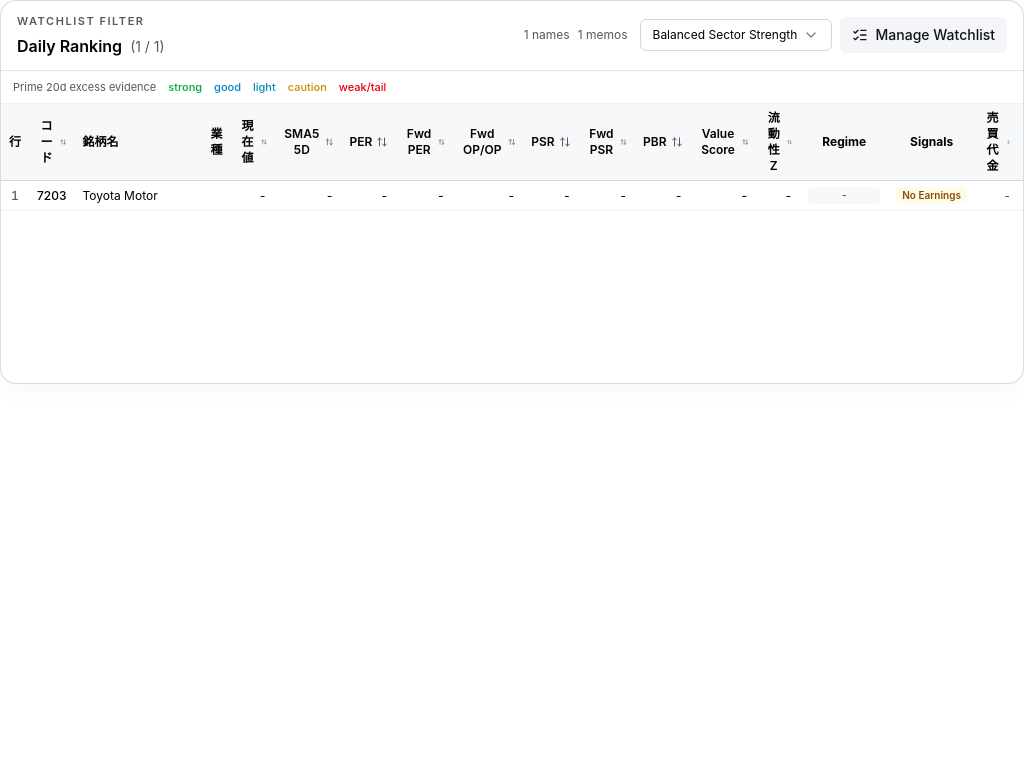
Test case: WatchlistDetail › opens a single management dialog for stock, detail, and danger actions
Expected: the button "Add Stock" is not shown
Expected: the button "Delete" is not shown
Click the button "Manage Watchlist" at x=923, y=35, box [840,17,1007,53]
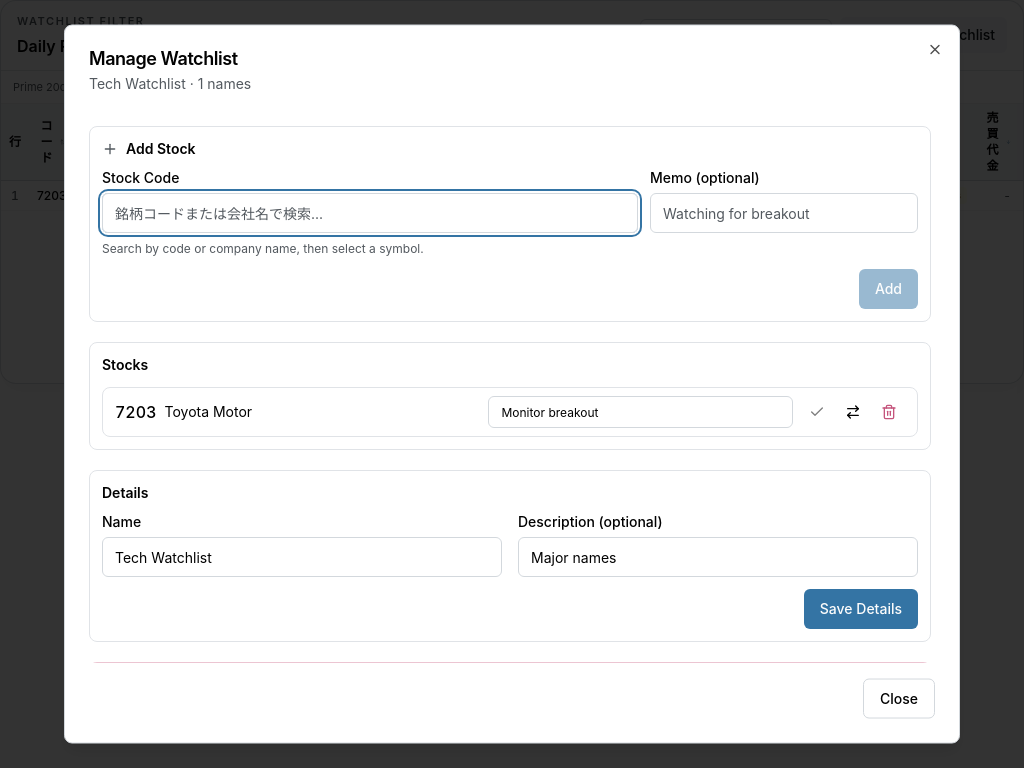
Result: the heading "Manage Watchlist" is shown at [89,48,238,68]
Result: the search field labelled "Stock Code" is shown at [102,192,638,232]
Result: the field labelled "Name" holds "Tech Watchlist" at [102,536,502,576]
